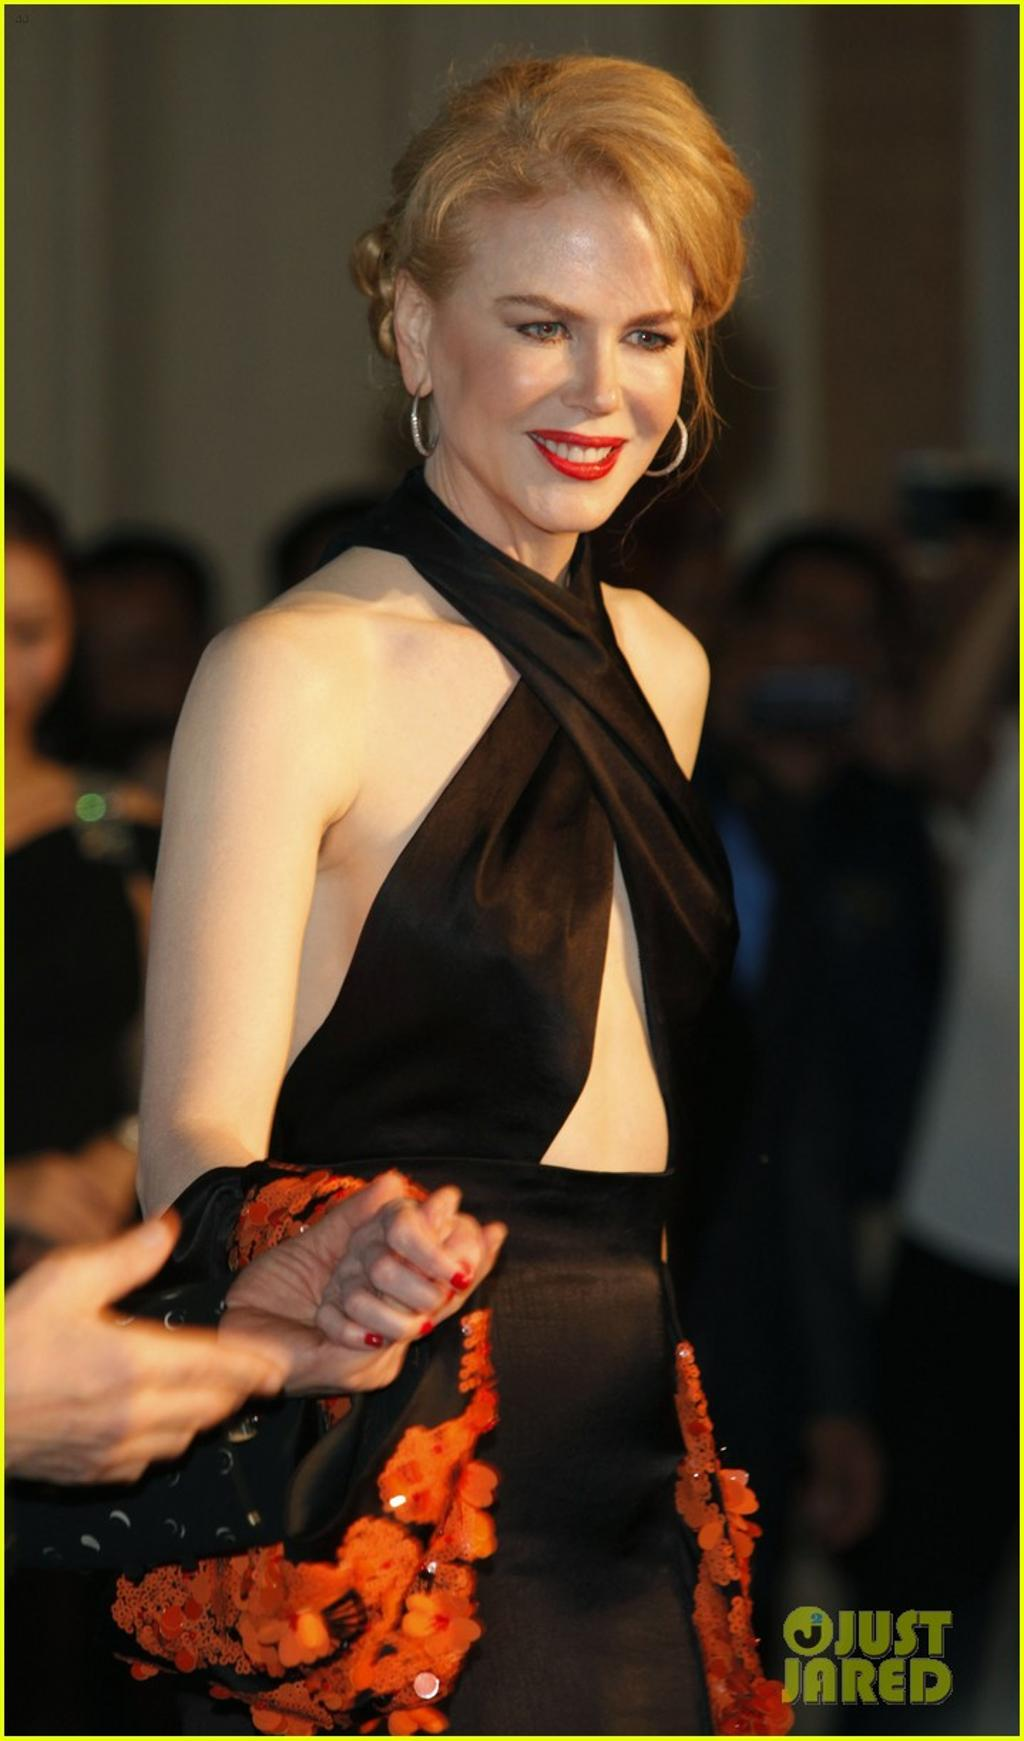face: (432, 150, 694, 538)
